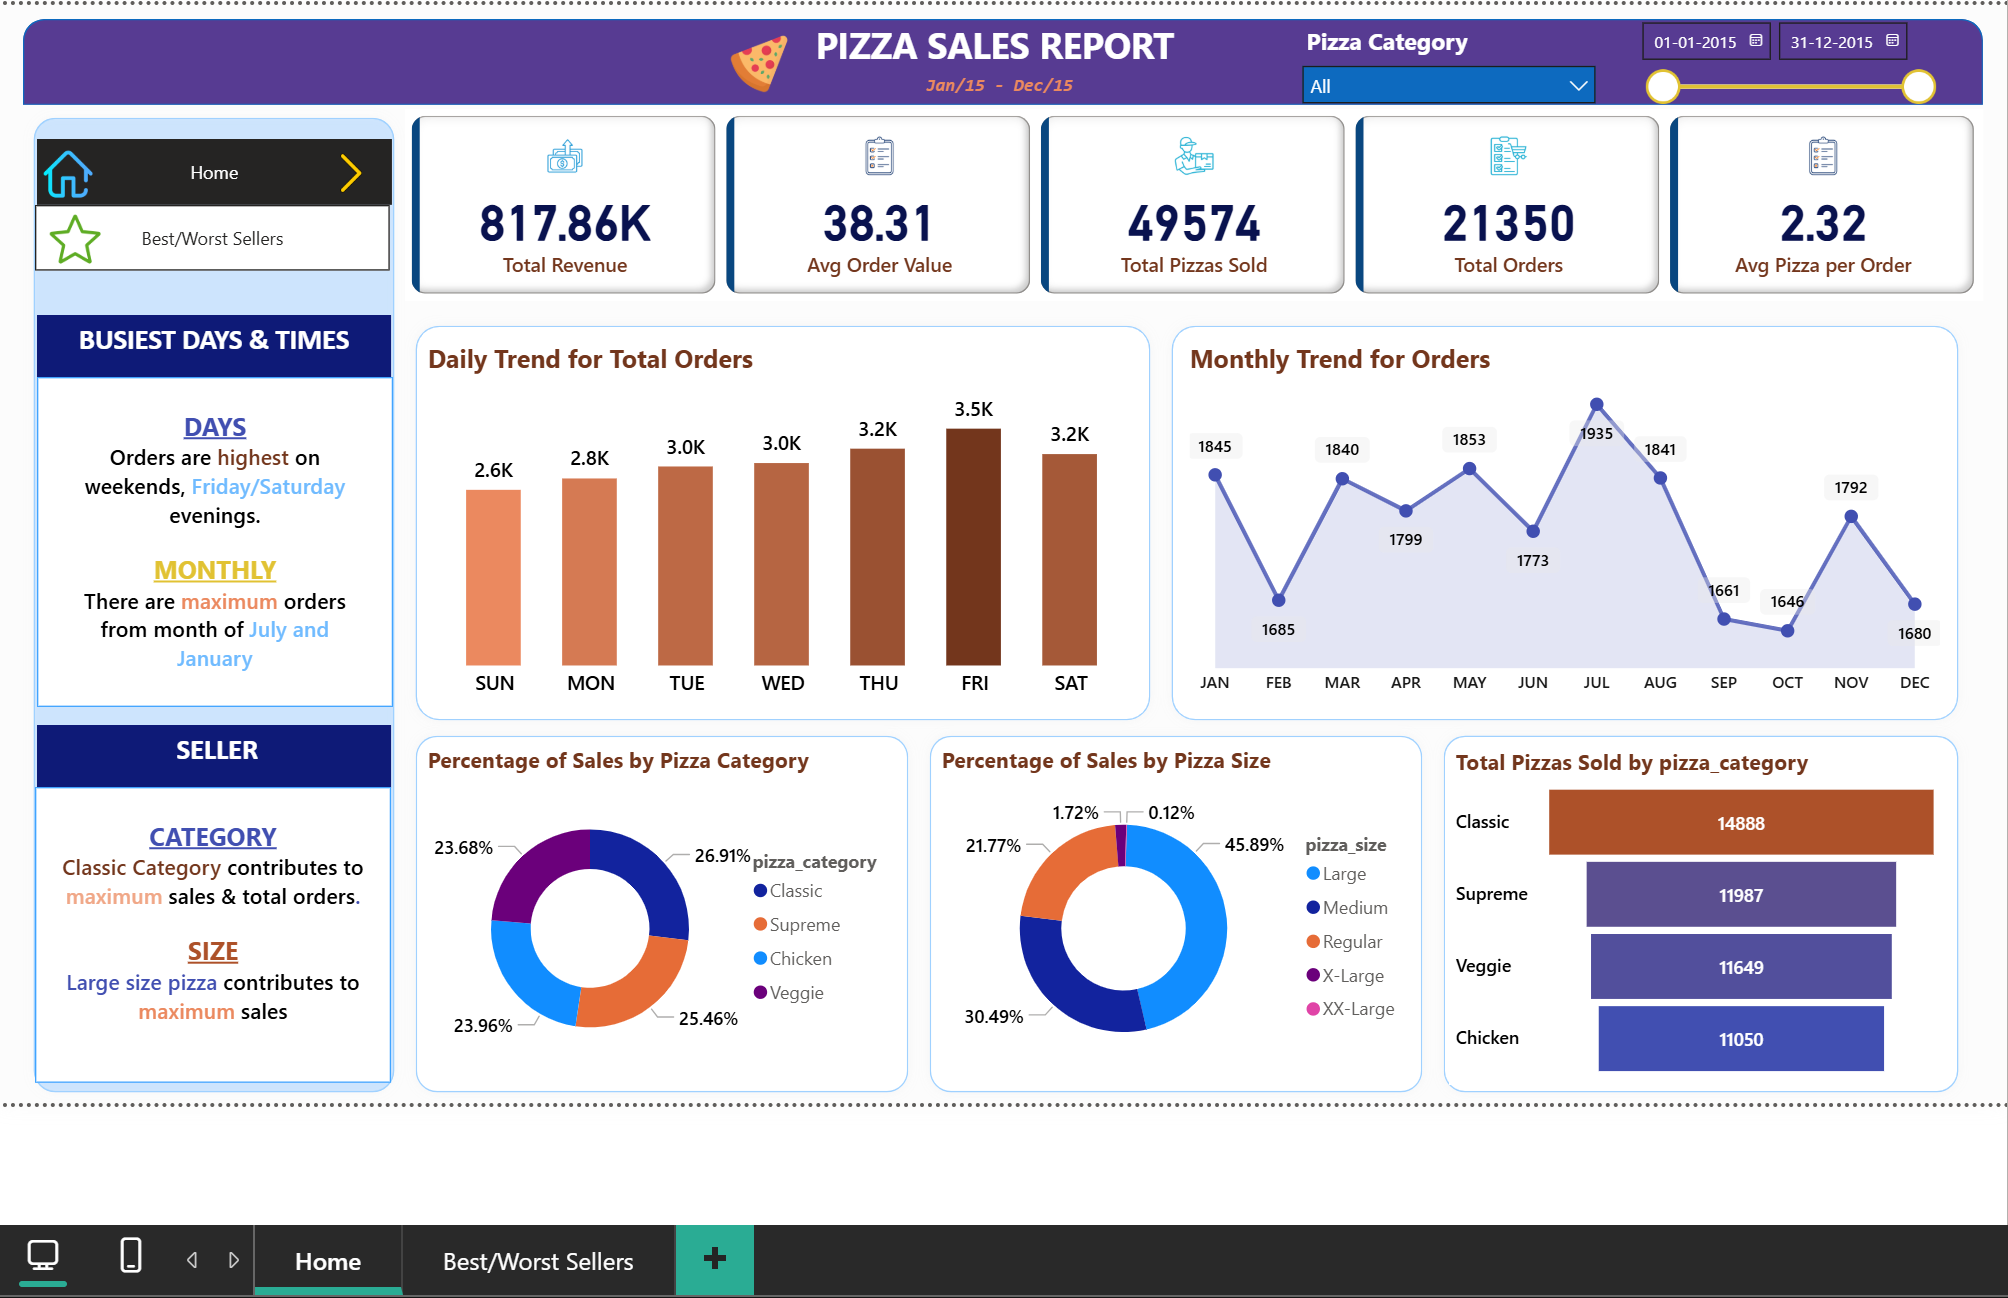

What the dashboard file says about the page in this screenshot:
{"tool":"powerbi","page":{"name":"Home","canvas":[1500,820],"ordinal":0},"visuals":[{"type":"shape","box":[17.9,76.2,285.4,744],"z":0},{"type":"textbox","box":[28.4,231.6,264.4,46.3],"z":1000},{"type":"cardVisual","fields":{"Data":["public pizza_sales.Total Revenue","public pizza_sales.Avg Order Value","public pizza_sales.Total Pizzas Sold","public pizza_sales.Total Orders","public pizza_sales.Avg Pizza per Order"]},"box":[303.3,77.7,1178.8,143.4],"z":2000},{"type":"shape","box":[17.9,10.5,1464.1,64.2],"z":3000},{"type":"textbox","box":[605.1,6,289.8,53.8],"z":4000},{"type":"textbox","box":[687.3,44.8,124,29.9],"z":5000},{"type":"image","box":[540.8,10.5,53.8,67.2],"z":6000},{"type":"shape","box":[303.3,231.6,564.7,310.8],"z":7000},{"type":"columnChart","title":"Daily Trend for Total Orders","fields":{"Category":["public pizza_sales.Order Day"],"Y":["public pizza_sales.Total Orders"]},"box":[315.2,251,540.8,276.4],"z":8000},{"type":"shape","box":[868,231.6,603.6,310.8],"z":9000},{"type":"areaChart","title":"Monthly Trend for Orders","fields":{"Category":["public pizza_sales.Order Month"],"Y":["public pizza_sales.Total Orders"]},"box":[884.5,251,570.7,273.4],"z":10000},{"type":"shape","box":[303.3,537.8,384,282.4],"z":11000},{"type":"shape","box":[687.3,537.8,384,282.4],"z":12000},{"type":"shape","box":[1071.2,537.8,400.4,282.4],"z":13000},{"type":"donutChart","title":"Percentage of Sales by Pizza Category","fields":{"Category":["public pizza_sales.pizza_category"],"Y":["public pizza_sales.Total Revenue"]},"box":[315.2,552.8,361.6,252.5],"z":14000},{"type":"donutChart","title":"Percentage of Sales by Pizza Size","fields":{"Y":["public pizza_sales.Total Revenue"],"Category":["public pizza_sales.pizza_size"]},"box":[699.2,552.8,361.6,252.5],"z":15000},{"type":"funnel","fields":{"Category":["public pizza_sales.pizza_category"],"Y":["public pizza_sales.Total Pizzas Sold"]},"box":[1083.2,554.3,372,252.5],"z":16000},{"type":"textbox","box":[28.4,277.9,265.9,246.5],"z":16001},{"type":"textbox","box":[28.4,537.8,264.4,46.3],"z":16002},{"type":"textbox","box":[26.9,584.2,265.9,221.1],"z":16003},{"type":"slicer","fields":{"Values":["public pizza_sales.pizza_category"]},"box":[963.6,10.5,239,64.2],"z":16004},{"type":"slicer","fields":{"Values":["public pizza_sales.order_date"]},"box":[1214.6,3,240.5,71.7],"z":16005},{"type":"pageNavigator","box":[28.4,100.1,265.9,49.3],"z":16006},{"type":"pageNavigator","box":[26.9,149.4,265.9,49.3],"z":16007},{"type":"image","box":[233.1,106.1,59.8,38.8],"z":16008},{"type":"image","box":[28.4,101.6,46.3,49.3],"z":16009},{"type":"image","box":[26.9,150.9,59.8,47.8],"z":16010}]}

Visuals, with their boxes on the page's 1500x820 design canvas (x1, y1, x2, y2). These are canvas units, not pixel positions in the 2008x1298 screenshot, which may show the page scaled, cropped or inside an application window:
shape: box(18, 76, 303, 820)
textbox: box(28, 232, 293, 278)
cardVisual - public pizza_sales.Total Revenue x public pizza_sales.Avg Order Value: box(303, 78, 1482, 221)
shape: box(18, 10, 1482, 75)
textbox: box(605, 6, 895, 60)
textbox: box(687, 45, 811, 75)
image: box(541, 10, 595, 78)
shape: box(303, 232, 868, 542)
"Daily Trend for Total Orders" columnChart: box(315, 251, 856, 527)
shape: box(868, 232, 1472, 542)
"Monthly Trend for Orders" areaChart: box(884, 251, 1455, 524)
shape: box(303, 538, 687, 820)
shape: box(687, 538, 1071, 820)
shape: box(1071, 538, 1472, 820)
"Percentage of Sales by Pizza Category" donutChart: box(315, 553, 677, 805)
"Percentage of Sales by Pizza Size" donutChart: box(699, 553, 1061, 805)
funnel - public pizza_sales.pizza_category x public pizza_sales.Total Pizzas Sold: box(1083, 554, 1455, 807)
textbox: box(28, 278, 294, 524)
textbox: box(28, 538, 293, 584)
textbox: box(27, 584, 293, 805)
slicer - public pizza_sales.pizza_category: box(964, 10, 1203, 75)
slicer - public pizza_sales.order_date: box(1215, 3, 1455, 75)
pageNavigator: box(28, 100, 294, 149)
pageNavigator: box(27, 149, 293, 199)
image: box(233, 106, 293, 145)
image: box(28, 102, 75, 151)
image: box(27, 151, 87, 199)
